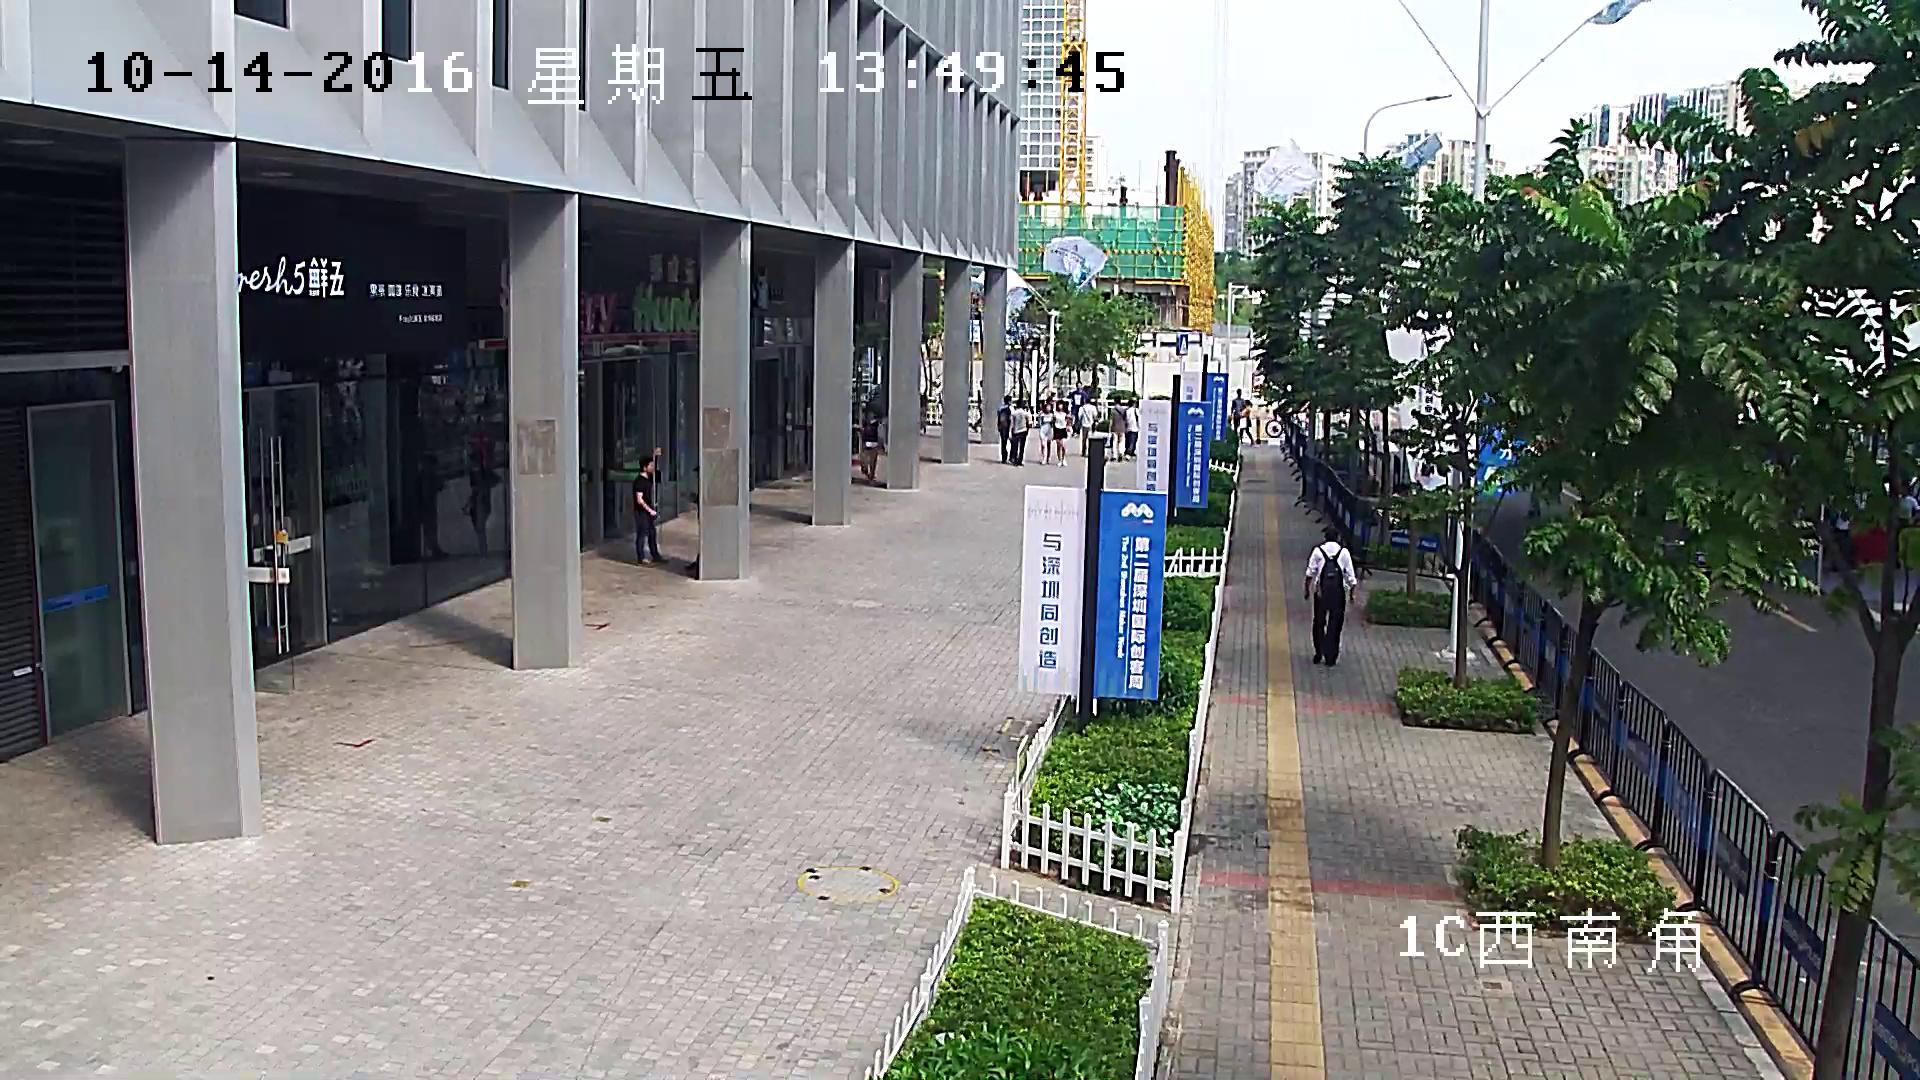person: (1304, 527, 1357, 666), (632, 457, 669, 567), (462, 454, 497, 556), (418, 455, 449, 560), (859, 410, 883, 480), (1105, 396, 1126, 461), (1009, 399, 1029, 465), (1078, 398, 1097, 456), (1053, 399, 1069, 466), (1038, 403, 1053, 464), (997, 395, 1010, 463), (1071, 381, 1087, 437), (1125, 399, 1138, 460), (1238, 399, 1253, 445), (1231, 388, 1244, 439), (972, 380, 982, 432)
